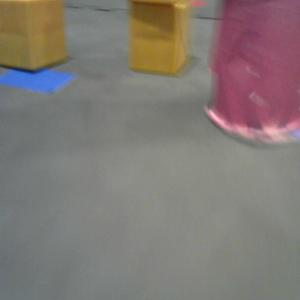right: (206, 1, 300, 141)
